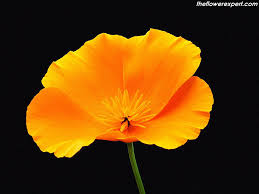flower: (26, 13, 220, 167)
